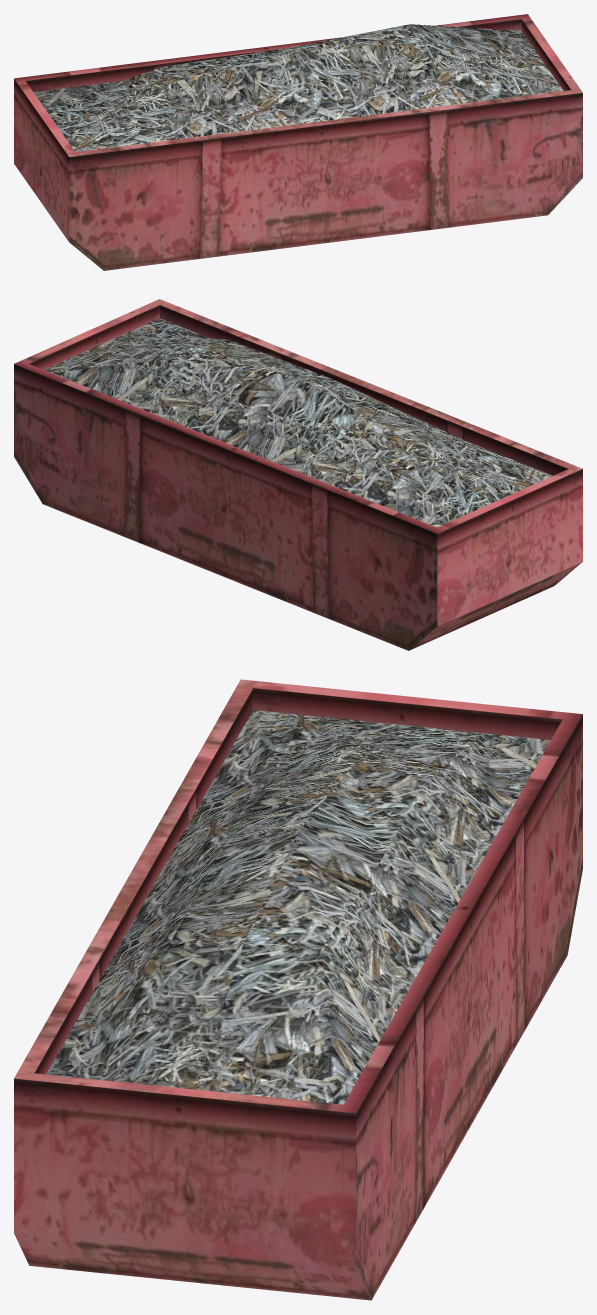
The picture shows the model from 3 angles, top to bottom: view 1: azimuth 30°, elevation 25°; view 2: azimuth 150°, elevation 25°; view 3: azimuth 270°, elevation 25°; orthographic projection. The views are drawn at different scales.
Parts seen in each view (by area): view 1: B007_Deposits_01_0, B007_Trash_01_0; view 2: B007_Deposits_01_0, B007_Trash_01_0; view 3: B007_Deposits_01_0, B007_Trash_01_0.
Boxes of the visible parts, x1=… form: B007_Deposits_01_0: x1=14, y1=14, x2=582, y2=270; B007_Trash_01_0: x1=33, y1=24, x2=563, y2=151; B007_Deposits_01_0: x1=14, y1=299, x2=582, y2=650; B007_Trash_01_0: x1=44, y1=318, x2=552, y2=527; B007_Deposits_01_0: x1=14, y1=679, x2=582, y2=1300; B007_Trash_01_0: x1=46, y1=710, x2=550, y2=1104.
Size of the model in its own units: 17.66 by 5.29 by 9.79.
Materials: 2 (2 with a texture image).
